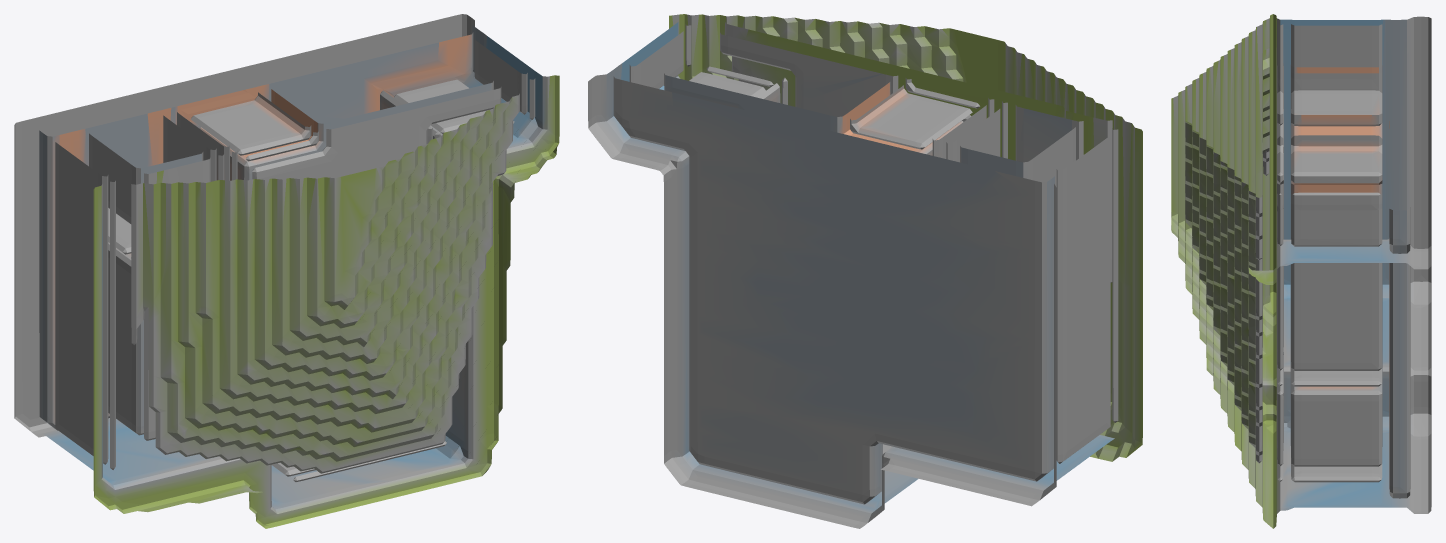
The model's file is 08018_original_cutaway.glb.
The picture shows the model from 3 angles, left to right: view 1: azimuth 30°, elevation 25°; view 2: azimuth 150°, elevation 25°; view 3: azimuth 270°, elevation 25°; orthographic projection. The views are drawn at different scales.
Visible parts, largest first — view 1: world; view 2: world; view 3: world.
Boxes of the visible parts, x1=… form: world: x1=14, y1=14, x2=559, y2=528; world: x1=588, y1=14, x2=1142, y2=528; world: x1=1171, y1=14, x2=1431, y2=528.
Size of the model in its own units: 68.87 by 53.94 by 36.99.
